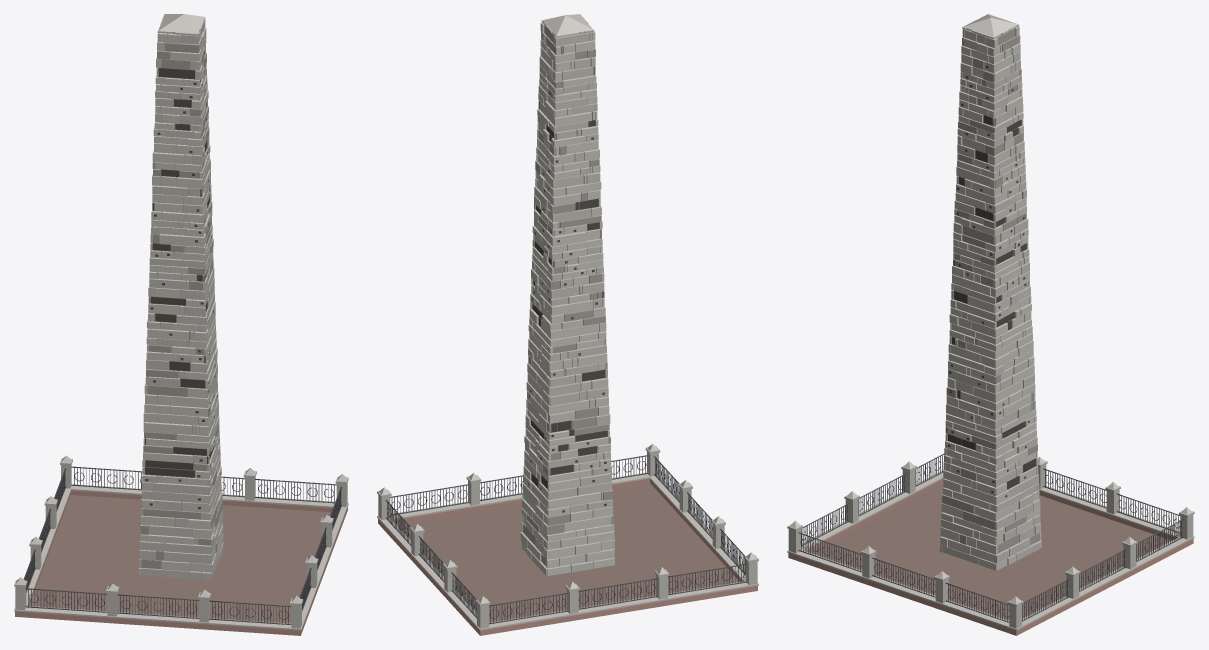
Rendered from walled-obelisk.glb.
3 renders of one model, left to right at view 1: azimuth 30°, elevation 25°; view 2: azimuth 150°, elevation 25°; view 3: azimuth 270°, elevation 25°, orthographic. The views are drawn at different scales.
Visible parts, largest first — view 1: walled-obelisk; view 2: walled-obelisk; view 3: walled-obelisk.
Part boxes in pixels (x1,y1,x2,y2): walled-obelisk: [14, 14, 348, 635]; walled-obelisk: [377, 14, 758, 635]; walled-obelisk: [787, 14, 1194, 635].
Bounding box in the file's own units: 20.29 × 29.5 × 20.38.
